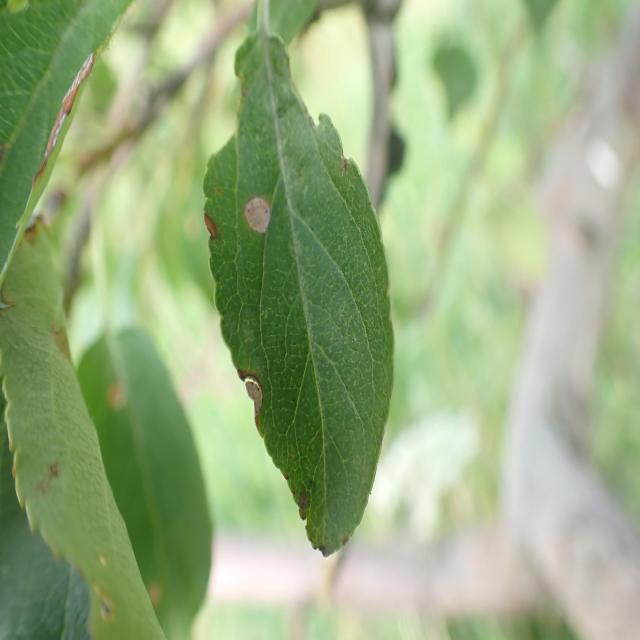Black Rot: (237, 150, 278, 287), (220, 345, 274, 449), (202, 200, 228, 274)
